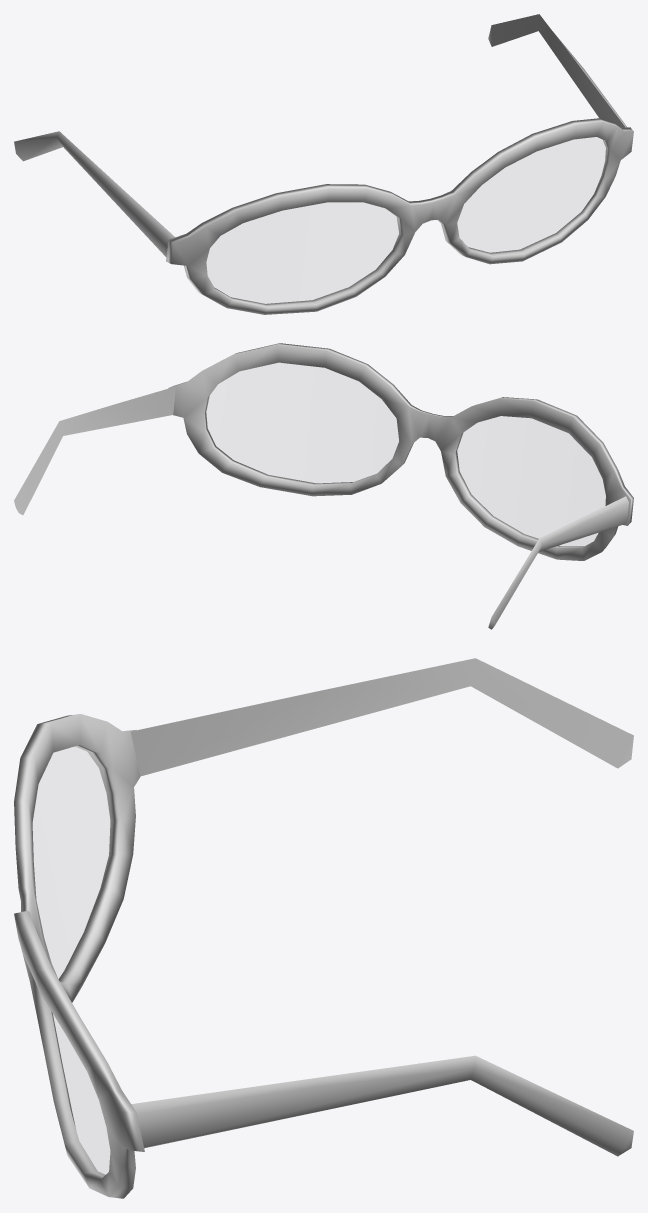
The model's file is p0_eyw0005_00_eyw00.gltf.
3 renders of one model, top to bottom at view 1: azimuth 30°, elevation 25°; view 2: azimuth 150°, elevation 25°; view 3: azimuth 270°, elevation 25°, orthographic. The views are drawn at different scales.
Visible parts, largest first — view 1: eyw00_frame_mesh_shape:eyewear, eyw00_temple_mesh_shape:eyewear; view 2: eyw00_frame_mesh_shape:eyewear, eyw00_temple_mesh_shape:eyewear; view 3: eyw00_temple_mesh_shape:eyewear, eyw00_frame_mesh_shape:eyewear.
Part boxes in pixels (x1,y1,x2,y2): eyw00_frame_mesh_shape:eyewear: (166, 118, 633, 314); eyw00_temple_mesh_shape:eyewear: (14, 14, 626, 256); eyw00_frame_mesh_shape:eyewear: (168, 343, 633, 560); eyw00_temple_mesh_shape:eyewear: (14, 386, 628, 629); eyw00_temple_mesh_shape:eyewear: (131, 658, 633, 1156); eyw00_frame_mesh_shape:eyewear: (14, 714, 144, 1198).
Size of what is drawn, in the model's own units: 0.2139 by 0.0569 by 0.1392.
1 material, 1 textured.
